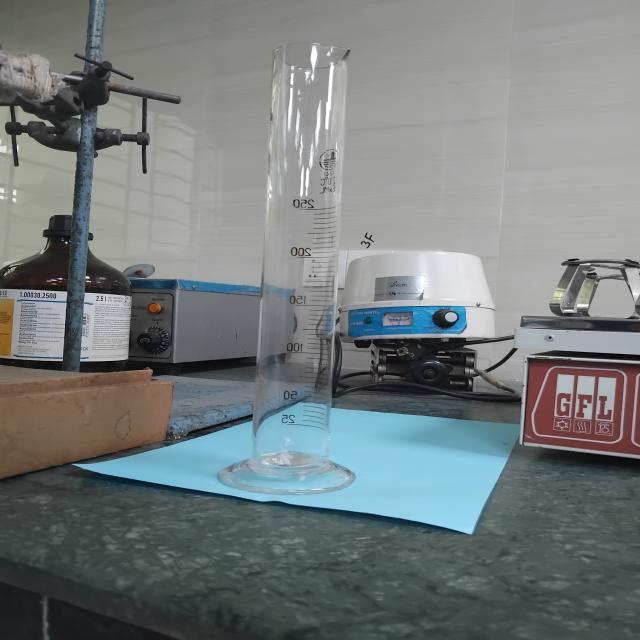Measuring_Cylinder: (188, 8, 383, 510)
